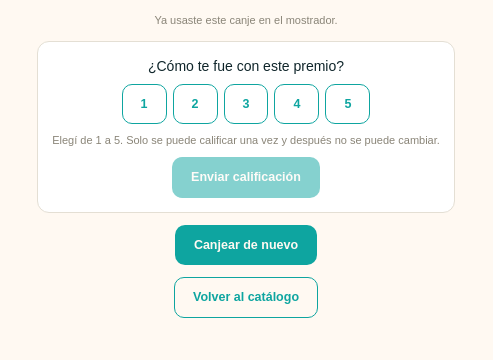
RedeemPage rating › explains a UserReward.NotRedeemed conflict in its own words
Step 1. Click the button named "5 de 5" → (348, 104), box [325,84,370,124]
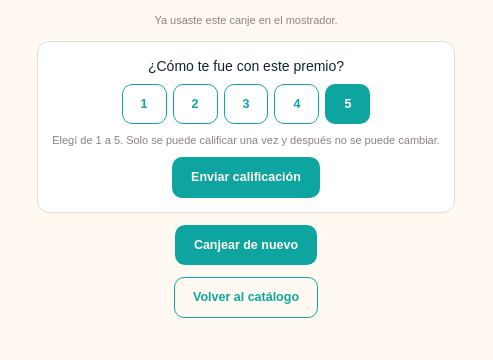
Step 2. Click the button "Enviar calificación" → (246, 177), box [172,157,320,198]
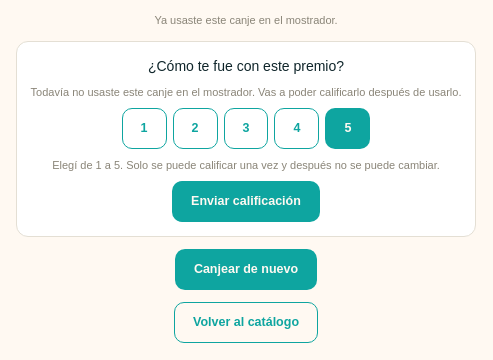
Expected: the text "Todavía no usaste este canje en el mostrador. Vas a poder calificarlo después de usarlo." is shown, [30,86,461,98]
